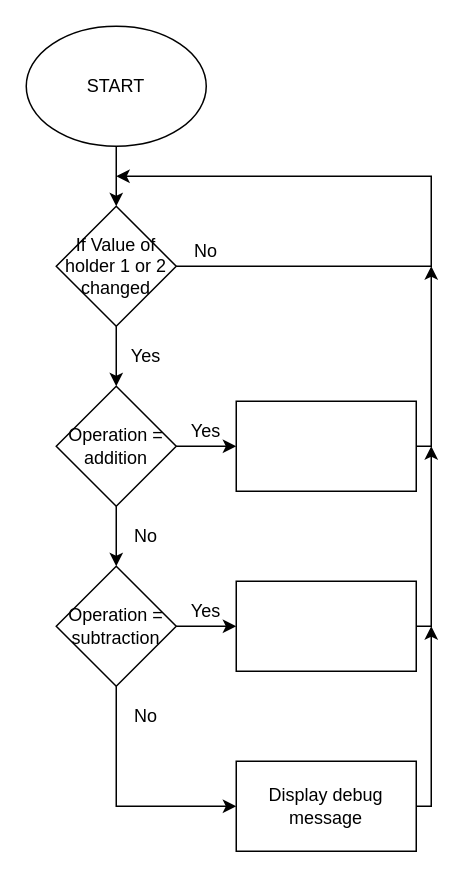
The diagram is 470 pixels wide and 878 high, and some of its shapes have lost their labels. The shapes that lost their labels are listed below. From the top down, each one's centre as x and y in pixels, then its label:
At [325,445]: "Add values from holder 1 and 2".
At [325,625]: "Subtract value of holder 2 from holder 1".
